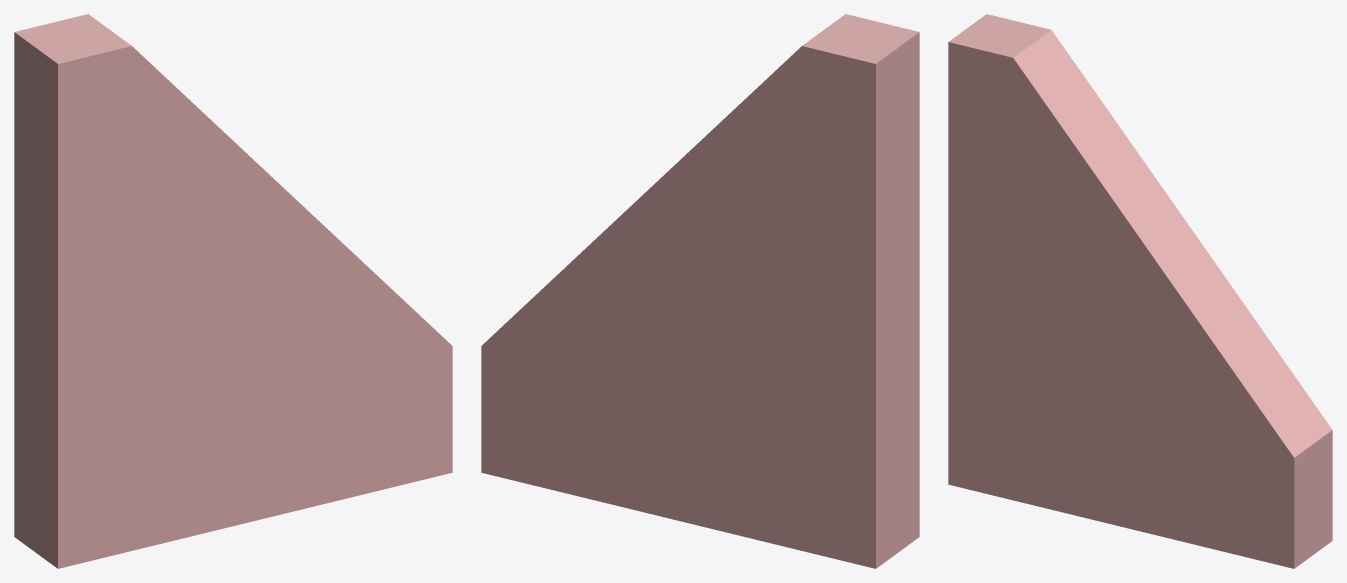
Rendered from level05_risingStairTop.fbx.
The picture shows the model from 3 angles, left to right: view 1: azimuth 30°, elevation 25°; view 2: azimuth 150°, elevation 25°; view 3: azimuth 330°, elevation 25°; orthographic projection. The views are drawn at different scales.
Visible parts, largest first — view 1: level05_risingStair02; view 2: level05_risingStair02; view 3: level05_risingStair02.
Part boxes in pixels (<box>): level05_risingStair02: <box>14,14,452,568</box>; level05_risingStair02: <box>481,14,919,568</box>; level05_risingStair02: <box>948,14,1332,568</box>.
Size of the model in its own units: 1044 by 1276 by 200.
